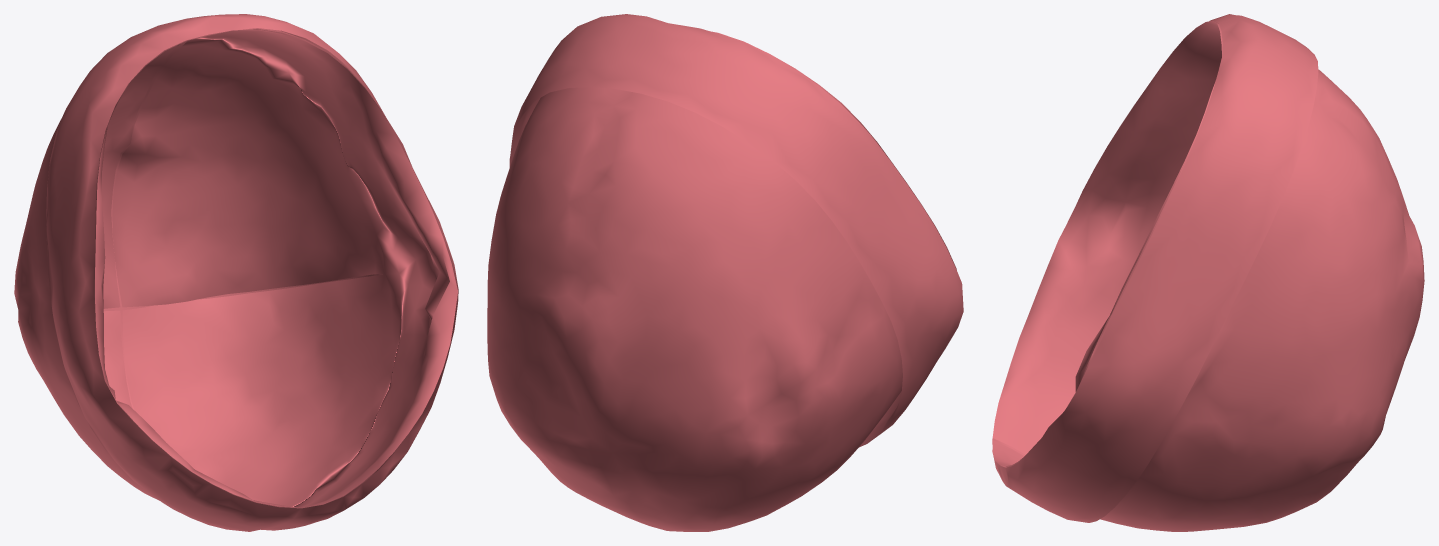
File: male_skn_6xyetqH.glb
The picture shows the model from 3 angles, left to right: view 1: azimuth 30°, elevation 25°; view 2: azimuth 150°, elevation 25°; view 3: azimuth 270°, elevation 25°; orthographic projection. The views are drawn at different scales.
Parts seen in each view (by area): view 1: male_skn; view 2: male_skn; view 3: male_skn.
Part boxes in pixels (x1,y1,x2,y2): male_skn: [14, 14, 458, 531]; male_skn: [487, 14, 963, 531]; male_skn: [992, 14, 1424, 531].
Bounding box in the file's own units: 0.185 × 0.2168 × 0.1765.
